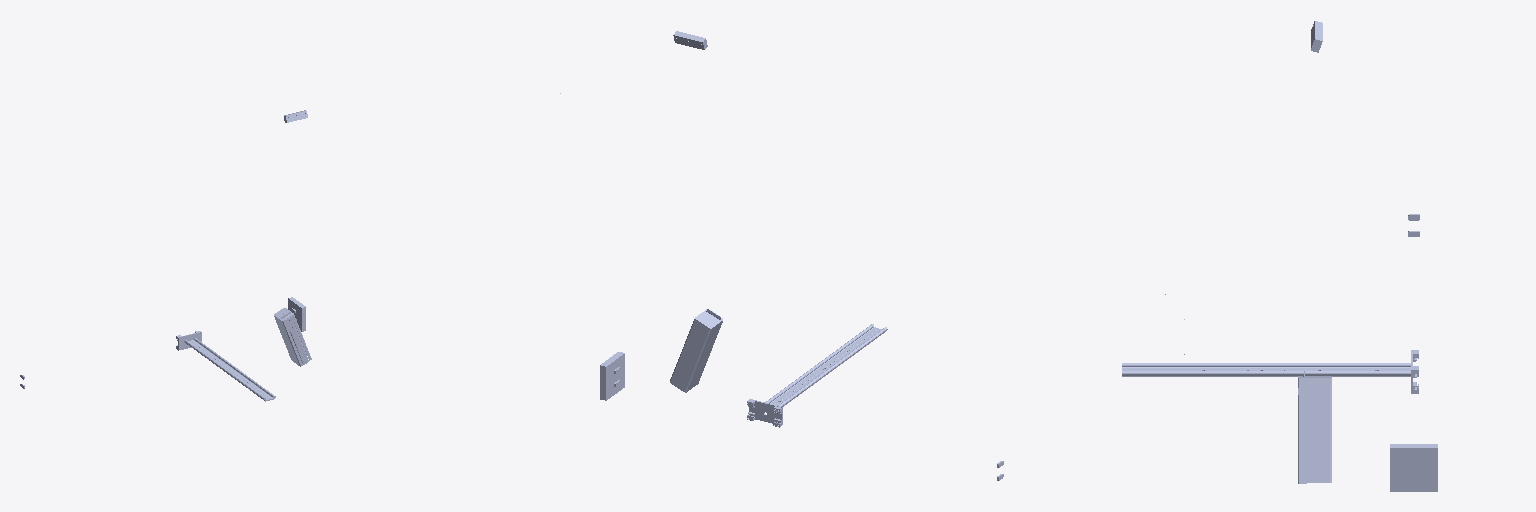
--- What the picture shows (computed from the rendered views, not written in the file) ---
3 views of the same robot in one strip: view 1: azimuth 30°, elevation 25°; view 2: azimuth 150°, elevation 25°; view 3: azimuth 270°, elevation 25° (orthographic).
Robot: robo_description — 21 links, 20 joints (2 revolute, 2 prismatic, 16 fixed); root link base_link; default pose: all joints at 0 but 1 set to mid-range because 0 is outside their limits (joint5 = 0.4665).
Visible links, largest first — view 1: link2, link5; view 2: link2, link5, base_link; view 3: link2, link5, base_link.
Link boxes in pixels (<box>): link2: <box>176,331,275,401</box>; link5: <box>274,308,311,366</box>; link2: <box>747,324,887,427</box>; link5: <box>670,309,722,392</box>; base_link: <box>600,352,1003,480</box>; link2: <box>1122,350,1418,393</box>; link5: <box>1298,371,1331,483</box>; base_link: <box>1390,214,1437,491</box>.
Size in the robot's own frame: 1.74 by 0.657 by 1.04 metres.
4 mesh visuals loaded from 6 distinct referenced files (4 binary STL); not drawn: 2 (reference not matched to a file when rendering).

URDF robot description (robo_description):
<?xml version="1.0" encoding="utf-8"?>
<!-- 25AUG2023 Changed the minimum limit of lJoint5 to 0.247 and max to 0.686 -->
<!-- This URDF was automatically created by SolidWorks to URDF Exporter! Originally created by Stephen Brawner ([email redacted]) 
     Commit Version: 1.6.0-4-g7f85cfe  Build Version: 1.6.7995.38578
     For more information, please see http://wiki.ros.org/sw_urdf_exporter -->
<robot
  name="robo_description">
  <link
    name="base_link">
    <inertial>
      <origin
        xyz="-5.13826234849775E-17 -1.63904738952765E-17 0.339473684210526"
        rpy="0 0 0" />
      <mass
        value="19" />
      <inertia
        ixx="2.34956140350877"
        ixy="1.11311423041845E-17"
        ixz="3.69215798456927E-16"
        iyy="2.34956140350877"
        iyz="-7.44985984223617E-17"
        izz="0.151666666666667" />
    </inertial>
    <visual>
      <origin
        xyz="0 0 0"
        rpy="0 0 0" />
      <geometry>
        <mesh
          filename="package://robo_description/meshes/base_link.STL" />
      </geometry>
      <material
        name="">
        <color
          rgba="0.792156862745098 0.819607843137255 0.933333333333333 1" />
      </material>
    </visual>
    <collision>
      <origin
        xyz="0 0 0"
        rpy="0 0 0" />
      <geometry>
        <mesh
          filename="package://robo_description/meshes/base_link.STL" />
      </geometry>
    </collision>
  </link>
  <link
    name="link2">
    <inertial>
      <origin
        xyz="-0.001261 -0.2858 0.14572"
        rpy="0 0 0" />
      <mass
        value="3.13280329013611" />
      <inertia
        ixx="0.0169430024052603"
        ixy="-0.00280446630124331"
        ixz="0.0223183329111622"
        iyy="0.162057682822749"
        iyz="0.000505061238040558"
        izz="0.161640952999751" />
    </inertial>
    <visual>
      <origin
        xyz="0 0 -1"
        rpy="0 0 0" />
      <geometry>
        <mesh
          filename="package://robo_description/meshes/link2.STL" />
      </geometry>
      <material
        name="">
        <color
          rgba="0.792156862745098 0.819607843137255 0.933333333333333 1" />
      </material>
    </visual>
    <collision>
      <origin
        xyz="0 0 0"
        rpy="0 0 0" />
      <geometry>
        <mesh
          filename="package://robo_description/meshes/link2.STL" />
      </geometry>
    </collision>
  </link>
  <joint
    name="joint2"
    type="prismatic">
    <origin
      xyz="0.0 0 1"
      rpy="0 0 0" />
    <parent
      link="base_link" />
    <child
      link="link2" />
    <axis
      xyz="0 0 1" />
    <limit
      lower="0"
      upper="1"
      effort="0"
      velocity="0" />
  </joint>
  <link
    name="link4">
    <inertial>
      <origin
        xyz="-0.000438554587764983 0.0620490502692163 -0.172885898172371"
        rpy="0 0 0" />
      <mass
        value="0.162146723185788" />
      <inertia
        ixx="0.00336616371871891"
        ixy="1.46811284877534E-06"
        ixz="-3.57096843523024E-06"
        iyy="0.00312866852492012"
        iyz="0.00048231220150353"
        izz="0.000338308018448651" />
    </inertial>
    <visual>
      <origin
        xyz="-0.4665 0 -0.790"
        rpy="0 0 0" />
      <geometry>
        <mesh
          filename="package://robo_description/meshes/link4.STL" />
      </geometry>
      <material
        name="">
        <color
          rgba="0.792156862745098 0.819607843137255 0.933333333333333 1" />
      </material>
    </visual>
    <collision>
      <origin
        xyz="0 0 0"
        rpy="0 0 0" />
      <geometry>
        <mesh
          filename="package://robo_description/meshes/link4.STL" />
      </geometry>
    </collision>
  </link>
  <joint
    name="joint4"
    type="revolute">
    <origin
      xyz="0.4665 0 -0.21"
      rpy="0 0 0" />
    <parent
      link="link2" />
    <child
      link="link4" />
    <axis
      xyz="0 0 1" />
    <limit
      lower="-2.9671"
      upper="2.9671"
      effort="0"
      velocity="0" />
  </joint>
  <link
    name="link3">
    <inertial>
      <origin
        xyz="-0.0832189655707039 -0.0894795892974461 -0.00179630042130147"
        rpy="0 0 0" />
      <mass
        value="1.71811977068641" />
      <inertia
        ixx="0.00948440583507882"
        ixy="-0.00159429497921182"
        ixz="0.00308193362516688"
        iyy="0.035537875179704"
        iyz="0.000648421421055908"
        izz="0.0305779645247813" />
    </inertial>
    <visual>
      <origin
        xyz="-0.468545 -0.078 -0.43528"
        rpy="0 0 0" />
      <geometry>
        <mesh
          filename="package://robo_description/meshes/link3.STL" />
      </geometry>
      <material
        name="">
        <color
          rgba="0.792156862745098 0.819607843137255 0.933333333333333 1" />
      </material>
    </visual>
    <collision>
      <origin
        xyz="0 0 0"
        rpy="0 0 0" />
      <geometry>
        <mesh
          filename="package://robo_description/meshes/link3.STL" />
      </geometry>
    </collision>
  </link>
  <joint
    name="joint3"
    type="revolute">
    <origin
      xyz="0.0 0.077824 -0.35472"
      rpy="0 0 0" />
    <parent
      link="link4" />
    <child
      link="link3" />
    <axis
      xyz="0 1 0" />
    <limit
      lower="-1.5708"
      upper="1.5708"
      effort="0"
      velocity="0" />
  </joint>
  <link
    name="yanthra_link">
    <inertial>
      <origin
        xyz="-0.0832189655707036 -0.0114795892974462 -0.00179630042130124"
        rpy="0 0 0" />
      <mass
        value="1.71811977068641" />
      <inertia
        ixx="0.00948440583507882"
        ixy="-0.00159429497921182"
        ixz="0.0030819336251669"
        iyy="0.035537875179704"
        iyz="0.000648421421055907"
        izz="0.0305779645247813" />
    </inertial>
    <visual>
      <origin
        xyz="0 0 0"
        rpy="0 0 0" />
      <geometry>
        <box size="0.001 0.001 0.001"/>
      </geometry>
      <material
        name="">
        <color
          rgba="0.792156862745098 0.819607843137255 0.933333333333333 1" />
      </material>
    </visual>
    <collision>
      <origin
        xyz="0 0 0"
        rpy="0 0 0" />
      <geometry>
        <box size="0.001 0.001 0.001"/>
      </geometry>
    </collision>
  </link>
  <joint
    name="yanthra_joint"
    type="fixed">
    <origin
      xyz="0 -0.078 0"
      rpy="0 0 0" />
    <parent
      link="link3" />
    <child
      link="yanthra_link" />
    <axis
      xyz="0 0 0" />
  </joint>
  <link
    name="link5_origin">
    <inertial>
      <origin
        xyz="-0.00874999999999998 0.0375 -0.00507843424240889"
        rpy="0 0 0" />
      <mass
        value="0.0438088883035136" />
      <inertia
        ixx="3.24913884800222E-05"
        ixy="1.33063310958086E-21"
        ixz="-8.470329472543E-22"
        iyy="3.99574478810853E-06"
        iyz="-3.38875204913906E-21"
        izz="3.07317223657389E-05" />
    </inertial>
    <visual>
      <origin
        xyz="0 0 0"
        rpy="0 0 0" />
      <geometry>
        <box size="0.001 0.001 0.001"/>
      </geometry>
      <material
        name="">
        <color
          rgba="0.792156862745098 0.819607843137255 0.933333333333333 1" />
      </material>
    </visual>
    <collision>
      <origin
        xyz="0 0 0"
        rpy="0 0 0" />
      <geometry>
        <box size="0.001 0.001 0.001"/>
      </geometry>
    </collision>
  </link>
  <joint
    name="link5_origin_joint"
    type="fixed">
    <origin
      xyz="0 0 0.0"
      rpy="0 0 0" />
    <parent	
      link="yanthra_link" />
    <child
      link="link5_origin" />
    <axis
      xyz="0 0 0" />
  </joint>
  <link
    name="link5">
    <inertial>
      <origin
        xyz="0.108132413871145 2.08242781028485E-06 0.00569147154470495"
        rpy="0 0 0" />
      <mass
        value="0.277404400359573" />
      <inertia
        ixx="0.00021628976171093"
        ixy="1.27900715148446E-06"
        ixz="-0.000135093187106687"
        iyy="0.00359200319167061"
        iyz="-8.36237914028336E-08"
        izz="0.00358633509004247" />
    </inertial>
    <visual>
      <origin
        xyz="-0.715545 0 -0.43528"
        rpy="0 0 0" />
      <geometry>
        <mesh
          filename="package://robo_description/meshes/link5.STL" />
      </geometry>
      <material
        name="">
        <color
          rgba="0.792156862745098 0.819607843137255 0.933333333333333 1" />
      </material>
    </visual>
    <collision>
      <origin
        xyz="0 0 0"
        rpy="0 0 0" />
      <geometry>
        <mesh
          filename="package://robo_description/meshes/link5.STL" />
      </geometry>
    </collision>
  </link>
  <joint
    name="joint5"
    type="prismatic">
    <origin
      xyz="0.0 0 0"
      rpy="0 0 0" />
    <parent
      link="link5_origin" />
    <child
      link="link5" />
    <axis
      xyz="1 0 0" />
    <limit
      lower="0.247"
      upper="0.686"
      effort="0"
      velocity="0" />
  </joint>
  <link
    name="ee_link">
    <inertial>
      <origin
        xyz="-0.00874999999999998 0.0375 -0.00507843424240889"
        rpy="0 0 0" />
      <mass
        value="0.0438088883035136" />
      <inertia
        ixx="3.24913884800222E-05"
        ixy="1.33063310958086E-21"
        ixz="-8.470329472543E-22"
        iyy="3.99574478810853E-06"
        iyz="-3.38875204913906E-21"
        izz="3.07317223657389E-05" />
    </inertial>
    <visual>
      <origin
        xyz="0 0 0"
        rpy="0 0 0" />
      <geometry>
        <box size="0.001 0.001 0.001"/>
      </geometry>
      <material
        name="">
        <color
          rgba="0.792156862745098 0.819607843137255 0.933333333333333 1" />
      </material>
    </visual>
    <collision>
      <origin
        xyz="0 0 0"
        rpy="0 0 0" />
      <geometry>
        <box size="0.001 0.001 0.001"/>
      </geometry>
    </collision>
  </link>
  <joint
    name="ee_joint"
    type="fixed">
    <origin
      xyz="0 0 0"
      rpy="0 0 0" />
    <parent	
      link="link5" />
    <child
      link="ee_link" />
    <axis
      xyz="0 0 0" />
  </joint>
  <link
    name="aruco_marker_link">
    <inertial>
      <origin
        xyz="-0.00874999999999998 0.0375 -0.00507843424240889"
        rpy="0 0 0" />
      <mass
        value="0.0438088883035136" />
      <inertia
        ixx="3.24913884800222E-05"
        ixy="1.33063310958086E-21"
        ixz="-8.470329472543E-22"
        iyy="3.99574478810853E-06"
        iyz="-3.38875204913906E-21"
        izz="3.07317223657389E-05" />
    </inertial>
    <visual>
      <origin
        xyz="0 0 0"
        rpy="0 0 0" />
      <geometry>
        <box size="0.001 0.001 0.001"/>
      </geometry>
      <material
        name="">
        <color
          rgba="0.792156862745098 0.819607843137255 0.933333333333333 1" />
      </material>
    </visual>
    <collision>
      <origin
        xyz="0 0 0"
        rpy="0 0 0" />
      <geometry>
        <box size="0.001 0.001 0.001"/>
      </geometry>
    </collision>
  </link>
  <joint
    name="aruco_joint"
    type="fixed">
    <origin
      xyz="-0.085 0 0.08"
      rpy="0 0 0" />
    <parent	
      link="ee_link" />
    <child
      link="aruco_marker_link" />
    <axis
      xyz="0 0 0" />
  </joint>
  <link
    name="aruco_link_1">
    <inertial>
      <origin
        xyz="-0.00874999999999998 0.0375 -0.00507843424240889"
        rpy="0 0 0" />
      <mass
        value="0.0438088883035136" />
      <inertia
        ixx="3.24913884800222E-05"
        ixy="1.33063310958086E-21"
        ixz="-8.470329472543E-22"
        iyy="3.99574478810853E-06"
        iyz="-3.38875204913906E-21"
        izz="3.07317223657389E-05" />
    </inertial>
    <visual>
      <origin
        xyz="0 0 0"
        rpy="0 0 0" />
      <geometry>
        <box size="0.001 0.001 0.001"/>
      </geometry>
      <material
        name="">
        <color
          rgba="0.792156862745098 0.819607843137255 0.933333333333333 1" />
      </material>
    </visual>
    <collision>
      <origin
        xyz="0 0 0"
        rpy="0 0 0" />
      <geometry>
        <box size="0.001 0.001 0.001"/>
      </geometry>
    </collision>
  </link>
  <joint
    name="aruco_joint_1"
    type="fixed">
    <origin
      xyz="0.0 0.04 0.04"
      rpy="0 0 0" />
    <parent	
      link="aruco_marker_link" />
    <child
      link="aruco_link_1" />
    <axis
      xyz="0 0 0" />
  </joint>
  <link
    name="aruco_link_2">
    <inertial>
      <origin
        xyz="-0.00874999999999998 0.0375 -0.00507843424240889"
        rpy="0 0 0" />
      <mass
        value="0.0438088883035136" />
      <inertia
        ixx="3.24913884800222E-05"
        ixy="1.33063310958086E-21"
        ixz="-8.470329472543E-22"
        iyy="3.99574478810853E-06"
        iyz="-3.38875204913906E-21"
        izz="3.07317223657389E-05" />
    </inertial>
    <visual>
      <origin
        xyz="0 0 0"
        rpy="0 0 0" />
      <geometry>
        <box size="0.001 0.001 0.001"/>
      </geometry>
      <material
        name="">
        <color
          rgba="0.792156862745098 0.819607843137255 0.933333333333333 1" />
      </material>
    </visual>
    <collision>
      <origin
        xyz="0 0 0"
        rpy="0 0 0" />
      <geometry>
        <box size="0.001 0.001 0.001"/>
      </geometry>
    </collision>
  </link>
  <joint
    name="aruco_joint_2"
    type="fixed">
    <origin
      xyz="0.0 -0.04 0.04"
      rpy="0 0 0" />
    <parent	
      link="aruco_marker_link" />
    <child
      link="aruco_link_2" />
    <axis
      xyz="0 0 0" />
  </joint>
  <link
    name="aruco_link_3">
    <inertial>
      <origin
        xyz="-0.00874999999999998 0.0375 -0.00507843424240889"
        rpy="0 0 0" />
      <mass
        value="0.0438088883035136" />
      <inertia
        ixx="3.24913884800222E-05"
        ixy="1.33063310958086E-21"
        ixz="-8.470329472543E-22"
        iyy="3.99574478810853E-06"
        iyz="-3.38875204913906E-21"
        izz="3.07317223657389E-05" />
    </inertial>
    <visual>
      <origin
        xyz="0 0 0"
        rpy="0 0 0" />
      <geometry>
        <box size="0.001 0.001 0.001"/>
      </geometry>
      <material
        name="">
        <color
          rgba="0.792156862745098 0.819607843137255 0.933333333333333 1" />
      </material>
    </visual>
    <collision>
      <origin
        xyz="0 0 0"
        rpy="0 0 0" />
      <geometry>
        <box size="0.001 0.001 0.001"/>
      </geometry>
    </collision>
  </link>
  <joint
    name="aruco_joint_3"
    type="fixed">
    <origin
      xyz="0.0 0.04 -0.04"
      rpy="0 0 0" />
    <parent	
      link="aruco_marker_link" />
    <child
      link="aruco_link_3" />
    <axis
      xyz="0 0 0" />
  </joint>
  <link
    name="aruco_link_4">
    <inertial>
      <origin
        xyz="-0.00874999999999998 0.0375 -0.00507843424240889"
        rpy="0 0 0" />
      <mass
        value="0.0438088883035136" />
      <inertia
        ixx="3.24913884800222E-05"
        ixy="1.33063310958086E-21"
        ixz="-8.470329472543E-22"
        iyy="3.99574478810853E-06"
        iyz="-3.38875204913906E-21"
        izz="3.07317223657389E-05" />
    </inertial>
    <visual>
      <origin
        xyz="0 0 0"
        rpy="0 0 0" />
      <geometry>
        <box size="0.001 0.001 0.001"/>
      </geometry>
      <material
        name="">
        <color
          rgba="0.792156862745098 0.819607843137255 0.933333333333333 1" />
      </material>
    </visual>
    <collision>
      <origin
        xyz="0 0 0"
        rpy="0 0 0" />
      <geometry>
        <box size="0.001 0.001 0.001"/>
      </geometry>
    </collision>
  </link>
  <joint
    name="aruco_joint_4"
    type="fixed">
    <origin
      xyz="0.0 -0.04 -0.04"
      rpy="0 0 0" />
    <parent	
      link="aruco_marker_link" />
    <child
      link="aruco_link_4" />
    <axis
      xyz="0 0 0" />
  </joint>
  <link
    name="link7">
    <inertial>
      <origin
        xyz="-0.00129487747822488 -0.0114795892973884 0.11996423535158"
        rpy="0 0 0" />
      <mass
        value="1.71811977068641" />
      <inertia
        ixx="0.0113386071435481"
        ixy="-0.00171490439294498"
        ixz="-0.00672100859249017"
        iyy="0.0355378751797041"
        iyz="-0.0001460470577602"
        izz="0.0287237632163119" />
    </inertial>
    <visual>
      <origin
        xyz="0 0 0"
        rpy="0 0 0" />
      <geometry>
        <box size="0.001 0.001 0.001"/>
      </geometry>
      <material
        name="">
        <color
          rgba="0.792156862745098 0.819607843137255 0.933333333333333 1" />
      </material>
    </visual>
    <collision>
      <origin
        xyz="0 0 0"
        rpy="0 0 0" />
      <geometry>
        <box size="0.001 0.001 0.001"/>
      </geometry>
    </collision>
  </link>
  <joint
    name="joint7"
    type="fixed">
    <origin
      xyz="0.4665 0 0.43528"
      rpy="0 0.0 -1.5708" />
    <parent
      link="base_link"/>
    <child
      link="link7"/>
    <axis
      xyz="0 0 0" />
  </joint>
  <link
    name="camera_mount_link">
    <inertial>
      <origin
        xyz="-0.00129487747822488 -0.0114795892973883 0.11996423535158"
        rpy="0 0 0" />
      <mass
        value="1.71811977068641" />
      <inertia
        ixx="0.0113386071435481"
        ixy="-0.00171490439294498"
        ixz="-0.00672100859249018"
        iyy="0.0355378751797041"
        iyz="-0.000146047057760202"
        izz="0.0287237632163119" />
    </inertial>
    <visual>
      <origin
        xyz="0 0 0"
        rpy="0 0 0" />
      <geometry>
        <box size="0.001 0.001 0.001"/>
      </geometry>
      <material
        name="">
        <color
          rgba="0.792156862745098 0.819607843137255 0.933333333333333 1" />
      </material>
    </visual>
    <collision>
      <origin
        xyz="0 0 0"
        rpy="0 0 0" />
      <geometry>
        <box size="0.001 0.001 0.001"/>
      </geometry>
    </collision>
  </link>
     <!--Realsense Camera depth is 20 mm from back to glass, But the depth start point(GROUND ZERO REFERENCE i.e depth is Zero) is 1.1 mm behind glass-->
     <!--Camera thickness-Zero Ref +Plate thick=20-1.1+2 = 20.09 mm -->
     <!-- xyz="0.02095 -0.0375 0"-->
  <joint
    name="camera_mount_joint"
    type="fixed">
    <origin
      xyz="0 0 0"
      rpy="-1.5708 0 -1.5708" />
    <parent
      link="link7" />
    <child
      link="camera_mount_link" />
    <axis
      xyz="0 0 0" />
  </joint>
  <link
    name="virtual_cam_link">
    <inertial>
      <origin
        xyz="-0.00874999999999998 0.0375 -0.00507843424240889"
        rpy="0 0 0" />
      <mass
        value="0.0438088883035136" />
      <inertia
        ixx="3.24913884800222E-05"
        ixy="1.33063310958086E-21"
        ixz="-8.470329472543E-22"
        iyy="3.99574478810853E-06"
        iyz="-3.38875204913906E-21"
        izz="3.07317223657389E-05" />
    </inertial>
    <visual>
      <origin
        xyz="0 0 0"
        rpy="0 0 0" />
      <geometry>
        <box size="0.001 0.001 0.001"/>
      </geometry>
      <material
        name="">
        <color
          rgba="0.792156862745098 0.819607843137255 0.933333333333333 1" />
      </material>
    </visual>
    <collision>
      <origin
        xyz="0 0 0"
        rpy="0 0 0" />
      <geometry>
        <box size="0.001 0.001 0.001"/>
      </geometry>
    </collision>
  </link>
  <joint
    name="virtual_cam_link_joint"
    type="fixed">
    <origin
      xyz="0 0 0"
      rpy="0 0 0" />
    <parent	
      link="camera_mount_link" />
    <child
      link="virtual_cam_link" />
    <axis
      xyz="0 0 0" />
  </joint>

  <link
    name="camera_link">
    <inertial>
      <origin
        xyz="-0.00874999999999998 0.0375 -0.00507843424240889"
        rpy="0 0 0" />
      <mass
        value="0.0438088883035136" />
      <inertia
        ixx="3.24913884800222E-05"
        ixy="1.33063310958086E-21"
        ixz="-8.470329472543E-22"
        iyy="3.99574478810853E-06"
        iyz="-3.38875204913906E-21"
        izz="3.07317223657389E-05" />
    </inertial>
    <visual>
      <origin
        xyz="-0.03768 -0.425 -0.175"
        rpy="0 -2.04 -1.5708" />
      <geometry>
        <mesh
          filename="package://robo_description/meshes/camera_link.STL" />
      </geometry>
      <material
        name="">
        <color
          rgba="0.792156862745098 0.819607843137255 0.933333333333333 1" />
      </material>
    </visual>
    <collision>
      <origin
        xyz="0 0 0"
        rpy="0 0 0" />
      <geometry>
        <mesh
          filename="package://robo_description/meshes/camera_link.STL" />
      </geometry>
    </collision>
  </link>
  <joint
    name="camera_link_joint"
    type="fixed">
    <origin
      xyz="0 0 0"
      rpy="0 0 0" />
    <parent
      link="virtual_cam_link" />
    <child
      link="camera_link" />
    <axis
      xyz="0 0 0" />
  </joint>

  <link name="camera_depth_frame">

    <visual>

    <origin xyz="0 0 0" rpy="0 0 0" />

      <geometry>

        <box size="0.001 0.001 0.001"/>

      </geometry>

    </visual>

  </link>

  <joint name="camera_depth_frame_joint" type="fixed">

    <origin rpy="0 0 0" xyz="0 0 0"/>

    <parent link="camera_link"/>

    <child link="camera_depth_frame"/>

  </joint>

  <link name="camera_depth_optical_frame">

    <visual>

    <origin xyz="0 0 0" rpy="0 0 0" />

      <geometry>

        <box size="0.001 0.001 0.001"/>

      </geometry>

    </visual>

  </link>

  <joint name="camera_depth_optical_frame_joint" type="fixed">

   <origin rpy="0 0 0" xyz="0 0 0"/>

   <parent link="camera_depth_frame"/>

   <child link="camera_depth_optical_frame"/>

  </joint>

  <link name="camera_color_frame">

    <visual>

    <origin xyz="0 0 0" rpy="0 0 0" />

      <geometry>

        <box size="0.001 0.001 0.001"/>

      </geometry>

    </visual>

  </link>

  <joint name="camera_color_frame_joint" type="fixed">

    <origin rpy="0 0 0" xyz="0 0 0"/>

    <parent link="camera_link"/>

    <child link="camera_color_frame"/>

  </joint>

  <link name="camera_color_optical_frame">

    <visual>

    <origin xyz="0 0 0" rpy="0 0 0" />

      <geometry>

        <box size="0.001 0.001 0.001"/>

      </geometry>

    </visual>

  </link>

  <joint name="camera_color_optical_frame_joint" type="fixed">

   <origin rpy="0 0 0" xyz="0 0 0"/>

   <parent link="camera_color_frame"/>

   <child link="camera_color_optical_frame"/>

  </joint>
  <gazebo reference="stand">

    <material>Gazebo/Grey</material>

  </gazebo>

  <gazebo reference="link3">

    <material>Gazebo/Green</material>

  </gazebo>

  <gazebo reference="link4">

    <material>Gazebo/Red</material>

  </gazebo>

  <gazebo reference="link5">

    <material>Gazebo/Green</material>

  </gazebo>

  <gazebo reference="link9">

    <material>Gazebo/Red</material>

  </gazebo>

  <gazebo reference="link6">

    <material>Gazebo/White</material>

  </gazebo>

  <transmission name="tran1">

    <type>transmission_interface/SimpleTransmission</type>

    <joint name="joint3">

      <hardwareInterface>hardware_interface/PositionJointInterface</hardwareInterface>

    </joint>

    <actuator name="motor1">

      <hardwareInterface>hardware_interface/PositionJointInterface</hardwareInterface>

      <mechanicalReduction>1</mechanicalReduction>

    </actuator>

  </transmission>

  <transmission name="tran1">

    <type>transmission_interface/SimpleTransmission</type>

    <joint name="joint4">

      <hardwareInterface>hardware_interface/PositionJointInterface</hardwareInterface>

    </joint>

    <actuator name="motor1">

      <hardwareInterface>hardware_interface/PositionJointInterface</hardwareInterface>

      <mechanicalReduction>1</mechanicalReduction>

    </actuator>

  </transmission>

  <transmission name="tran1">

    <type>transmission_interface/SimpleTransmission</type>

    <joint name="joint5">

      <hardwareInterface>hardware_interface/PositionJointInterface</hardwareInterface>

    </joint>

    <actuator name="motor1">

      <hardwareInterface>hardware_interface/PositionJointInterface</hardwareInterface>

      <mechanicalReduction>1</mechanicalReduction>

    </actuator>

  </transmission>

  <gazebo>

    <plugin filename="libgazebo_ros_control.so" name="gazebo_ros_control">

      <robotNameSpace>/arm_controller</robotNameSpace>

    </plugin>

  </gazebo>

</robot>
